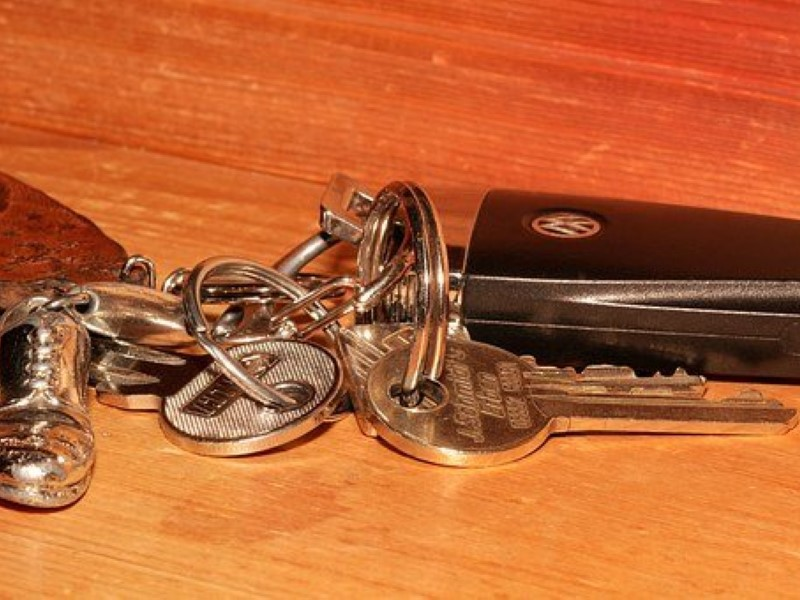carkey: (322, 192, 796, 385)
key: (356, 334, 794, 470), (102, 338, 342, 458)
